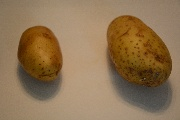potato: (106, 15, 172, 89), (15, 27, 62, 80)
